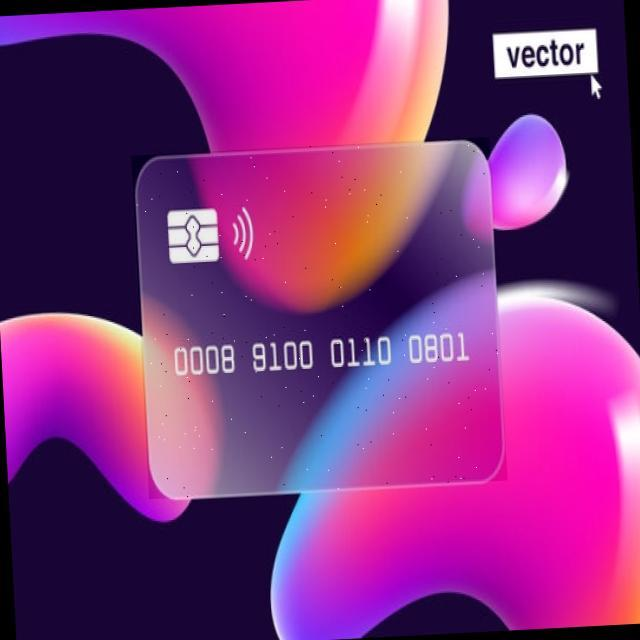payment_card: (133, 138, 504, 500)
